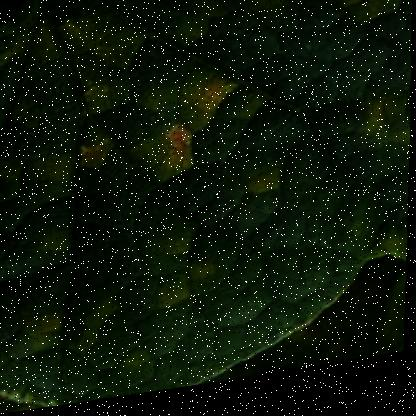DownyMildew: (0, 0, 366, 289), (0, 0, 260, 382), (0, 46, 306, 332), (176, 0, 414, 238)
